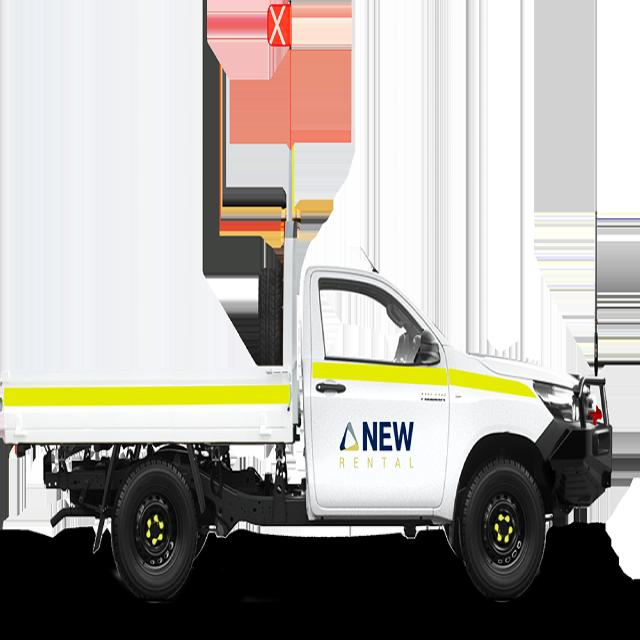light_vehicle: (1, 238, 628, 618)
